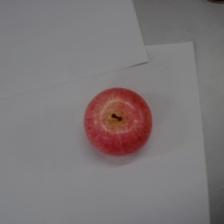red: (82, 85, 153, 157)
